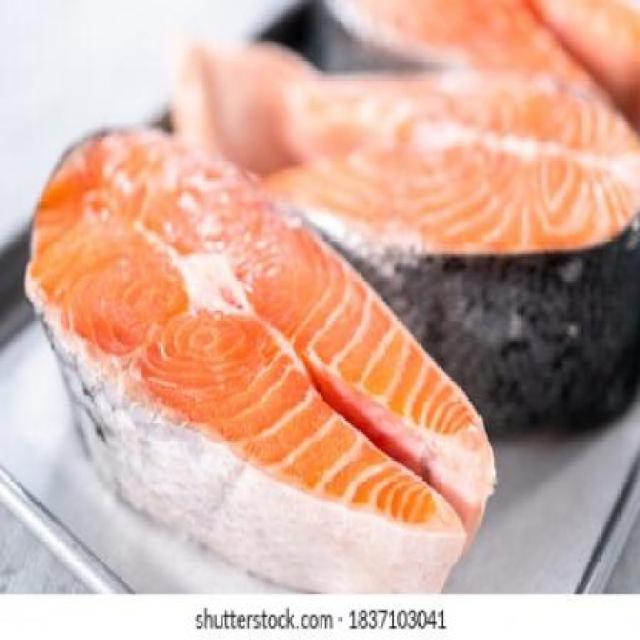salmon: (23, 122, 514, 583), (167, 38, 640, 445)
